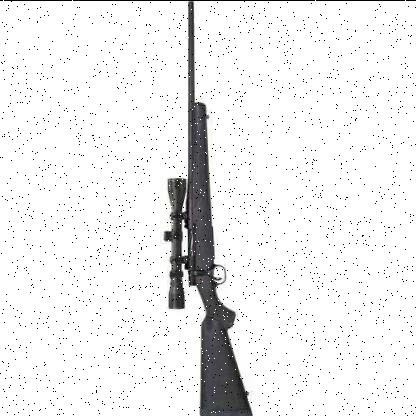rifle: (142, 1, 272, 416)
